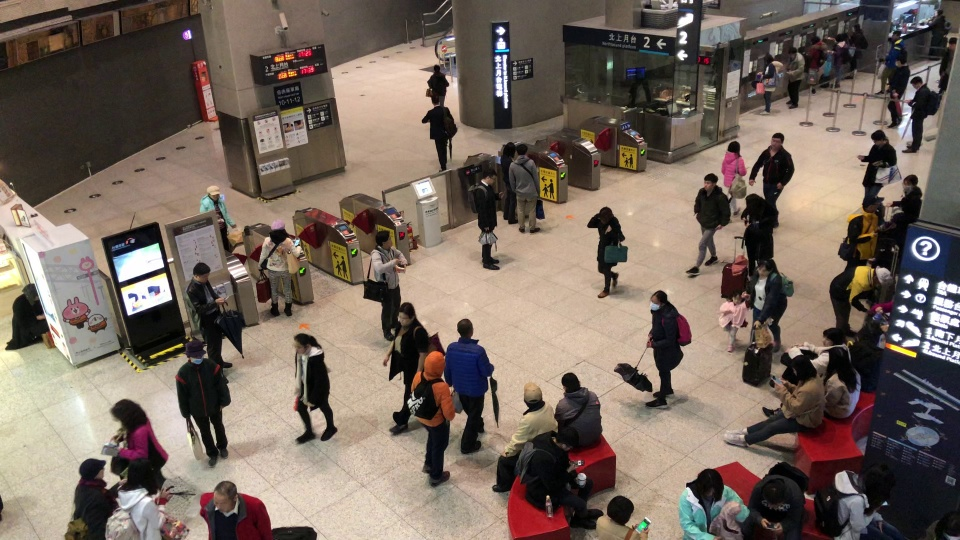person_head: (867, 462, 897, 504), (109, 398, 145, 430), (126, 459, 156, 494), (606, 494, 635, 525), (213, 480, 238, 511), (698, 469, 725, 497), (826, 348, 852, 375), (77, 458, 106, 481), (791, 355, 816, 381), (763, 480, 786, 507), (555, 427, 579, 452), (424, 351, 446, 377), (184, 340, 207, 363), (523, 382, 542, 408), (821, 326, 844, 347), (398, 302, 417, 326), (648, 289, 669, 310), (191, 261, 211, 283), (744, 194, 764, 216), (942, 514, 959, 539), (561, 372, 581, 393), (293, 333, 312, 355), (456, 318, 475, 339), (873, 266, 891, 286), (374, 230, 393, 248), (23, 282, 40, 302), (702, 172, 719, 191), (758, 260, 774, 279), (863, 196, 879, 214), (903, 174, 918, 193), (481, 167, 496, 185), (598, 206, 613, 224), (870, 129, 886, 145), (770, 132, 785, 147), (502, 142, 516, 158), (895, 50, 908, 67), (206, 184, 220, 199), (270, 220, 284, 235), (909, 75, 923, 90), (726, 140, 740, 154), (516, 143, 528, 155), (731, 291, 743, 303), (947, 36, 958, 49), (810, 35, 822, 46), (891, 29, 902, 40), (835, 32, 845, 44), (788, 46, 797, 59), (764, 54, 773, 65), (431, 95, 439, 105), (433, 63, 441, 72), (853, 23, 861, 32), (934, 8, 943, 16)
person_vbox: (721, 355, 825, 447), (514, 426, 603, 530), (759, 347, 861, 424), (491, 382, 559, 494), (811, 461, 904, 540), (175, 340, 232, 467), (443, 318, 494, 455), (410, 350, 456, 488), (381, 302, 429, 434), (184, 261, 233, 384), (643, 289, 693, 409), (103, 459, 175, 540), (108, 398, 170, 485), (292, 332, 339, 445), (678, 468, 751, 540), (64, 458, 128, 540), (747, 461, 809, 540), (684, 173, 731, 276), (745, 259, 794, 355), (828, 265, 892, 338), (199, 479, 274, 540), (748, 132, 795, 229), (257, 219, 302, 317), (369, 231, 408, 341), (466, 167, 505, 271), (782, 327, 852, 382), (554, 372, 602, 451), (586, 206, 626, 298), (901, 74, 941, 153), (508, 142, 541, 235), (856, 129, 898, 201), (4, 283, 47, 352), (421, 94, 458, 173), (740, 194, 774, 278), (842, 196, 881, 266), (595, 493, 651, 540), (200, 185, 237, 250), (872, 30, 906, 97), (884, 50, 911, 131), (720, 139, 747, 217), (886, 172, 923, 225), (719, 291, 749, 354), (756, 54, 784, 116), (785, 46, 811, 111), (499, 141, 519, 225), (806, 33, 828, 97), (844, 21, 868, 79), (826, 32, 850, 88), (427, 64, 450, 107), (925, 8, 952, 37), (939, 35, 957, 77)
